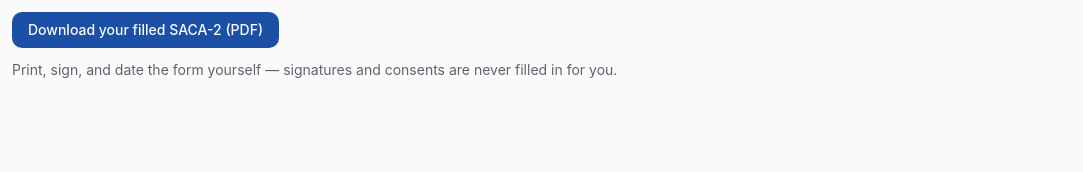
Saca2Download › shows a persistent warning, without answer content, when characters were replaced
What coordinates should you click on to do the following:
click the button "Download your filled SACA-2 (PDF)"
I would click on:
 (146, 30)
Its box is x1=12 y1=12 x2=279 y2=48.
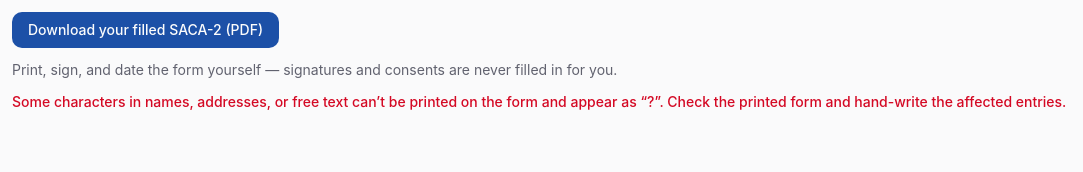
expect the text "can’t be printed on the form" does not show "Ada": met, box x1=12 y1=93 x2=1066 y2=110
expect the text "can’t be printed on the form" shows "appear as “?”": met, box x1=12 y1=93 x2=1066 y2=110
expect the text "can’t be printed on the form" shows "hand-write": met, box x1=12 y1=93 x2=1066 y2=110
What coordinates should you click on to do the following:
click the button "Download your filled SACA-2 (PDF)"
I would click on:
 (146, 30)
Its box is x1=12 y1=12 x2=279 y2=48.
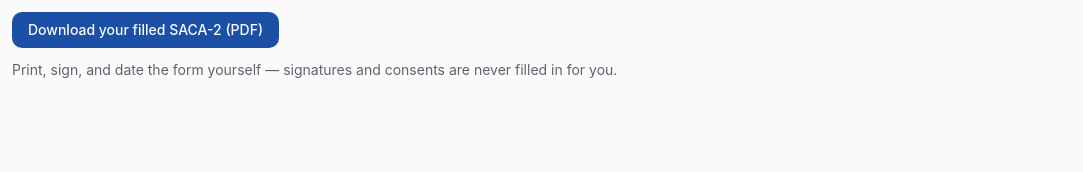
expect the text "can’t be printed" is gone: met
